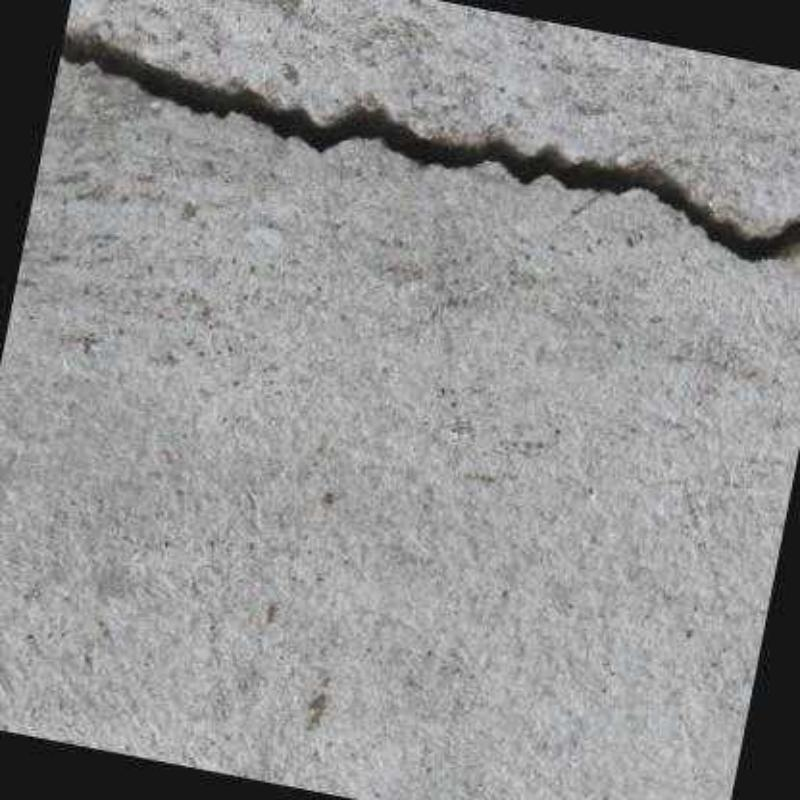pothole: (59, 29, 800, 257)
